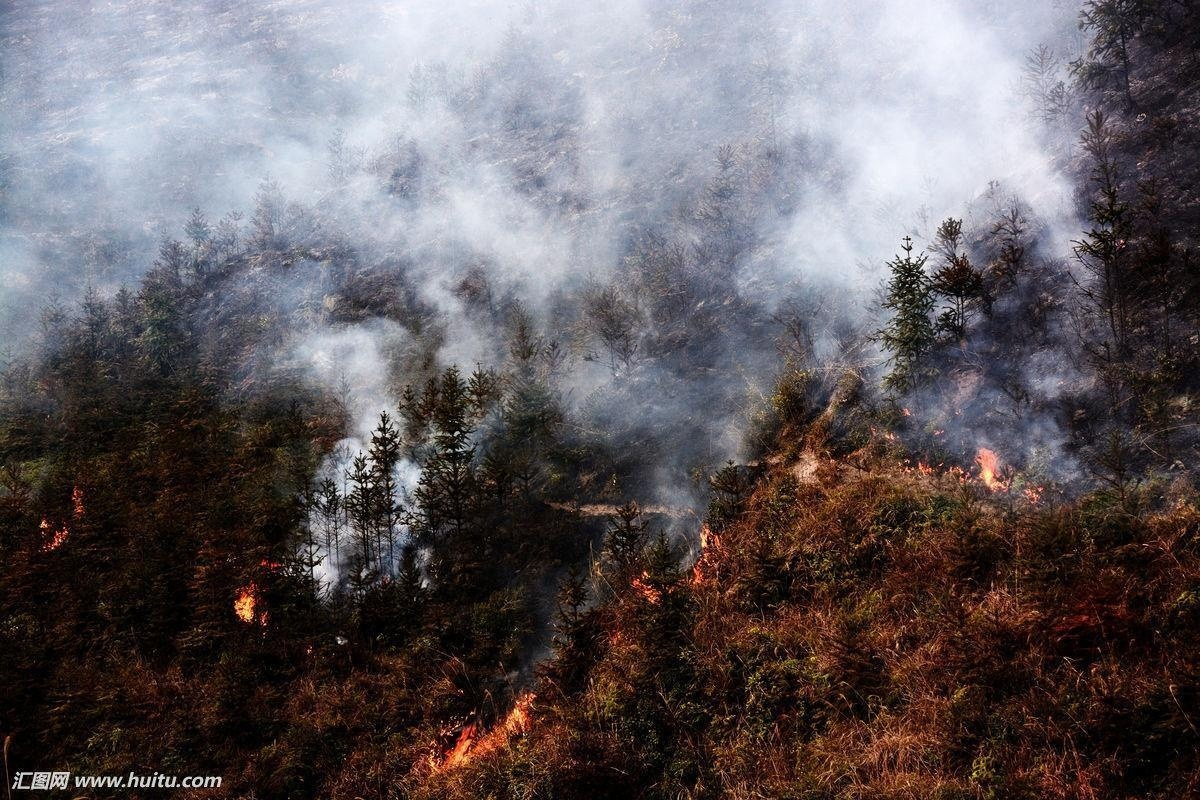fire: (428, 687, 538, 765), (910, 440, 1036, 494), (34, 485, 90, 556), (686, 520, 727, 587), (226, 573, 275, 628), (626, 564, 665, 602)
